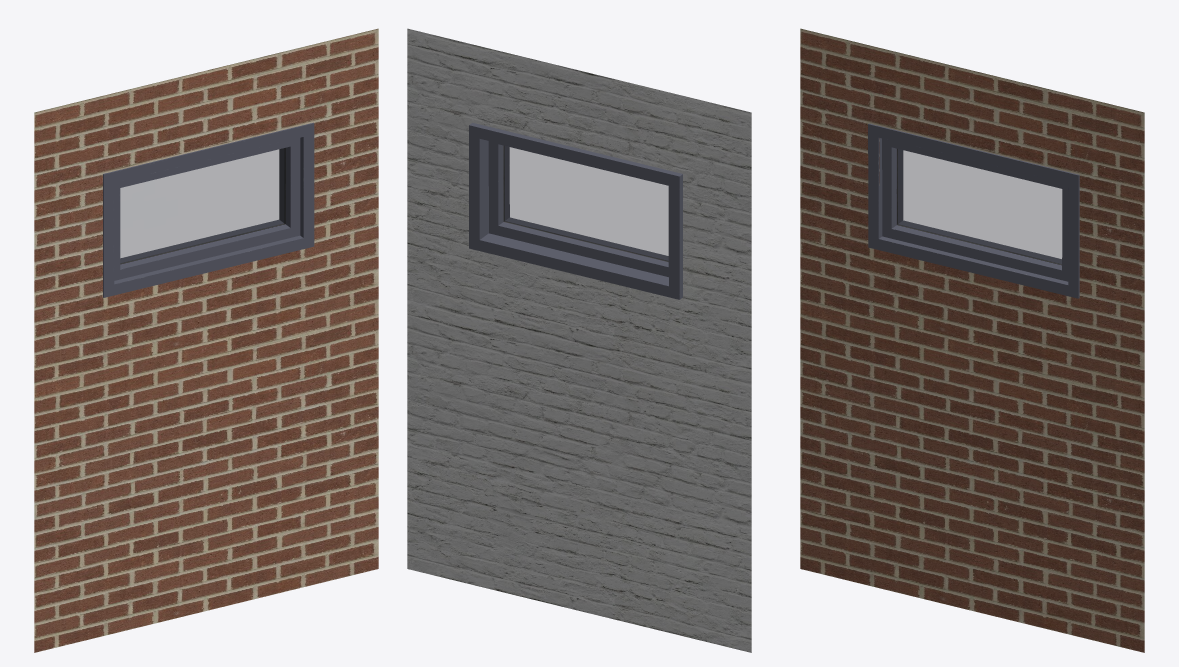
File: SM_Wall_8th_Window_01.glb
The picture shows the model from 3 angles, left to right: view 1: azimuth 30°, elevation 25°; view 2: azimuth 150°, elevation 25°; view 3: azimuth 330°, elevation 25°; orthographic projection.
Visible parts, largest first — view 1: SM_Wall_8th_Window_01; view 2: SM_Wall_8th_Window_01; view 3: SM_Wall_8th_Window_01.
Part boxes in pixels (bbox=[...]): SM_Wall_8th_Window_01: bbox=[34, 28, 378, 652]; SM_Wall_8th_Window_01: bbox=[407, 28, 751, 652]; SM_Wall_8th_Window_01: bbox=[800, 28, 1144, 652].
Bounding box in the file's own units: 2 × 3 × 0.2434.
Materials: 4 (4 with a texture image).
